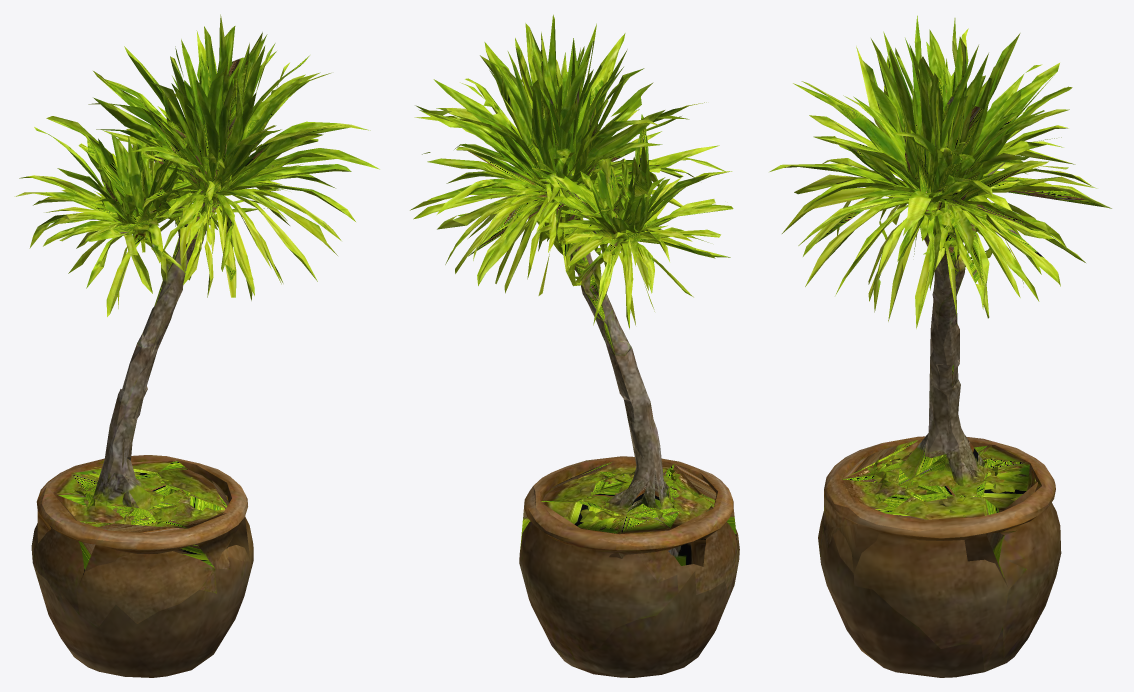
Rendered from w3dracaena.glb.
3 views of the same model, side by side, from view 1: azimuth 30°, elevation 25°; view 2: azimuth 150°, elevation 25°; view 3: azimuth 270°, elevation 25° (orthographic). The views are drawn at different scales.
Visible parts, largest first — view 1: w3dracaena_near, w3dracaena_far; view 2: w3dracaena_near, w3dracaena_far; view 3: w3dracaena_near, w3dracaena_far.
Part boxes in pixels (bbox=[...]): w3dracaena_near: bbox=[14, 14, 379, 677]; w3dracaena_far: bbox=[37, 53, 348, 587]; w3dracaena_near: bbox=[410, 14, 739, 677]; w3dracaena_far: bbox=[441, 42, 738, 566]; w3dracaena_near: bbox=[769, 15, 1111, 677]; w3dracaena_far: bbox=[815, 54, 1103, 588].
Bounding box in the file's own units: 0.8107 × 1.5 × 0.7356.
Materials: 1 (1 with a texture image).
